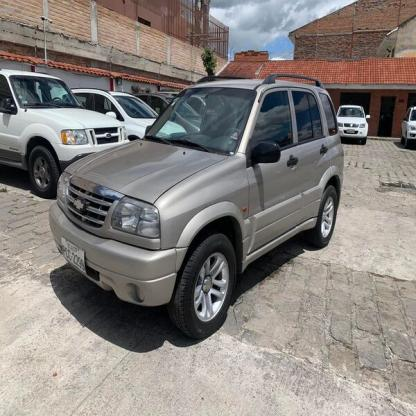Placa: (51, 228, 91, 284)
